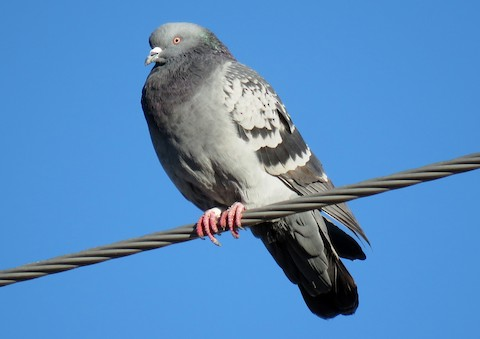pigeon: (133, 18, 373, 321)
